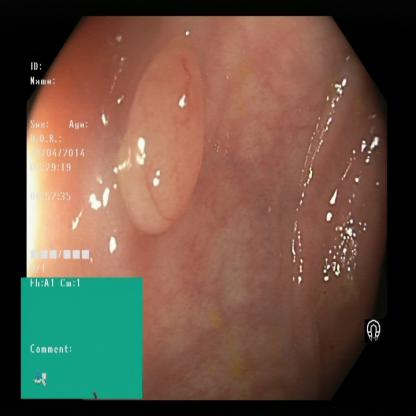Labels: (29, 57, 101, 275), (21, 274, 142, 400), (362, 301, 380, 353)
Polyps: (130, 57, 210, 231)
